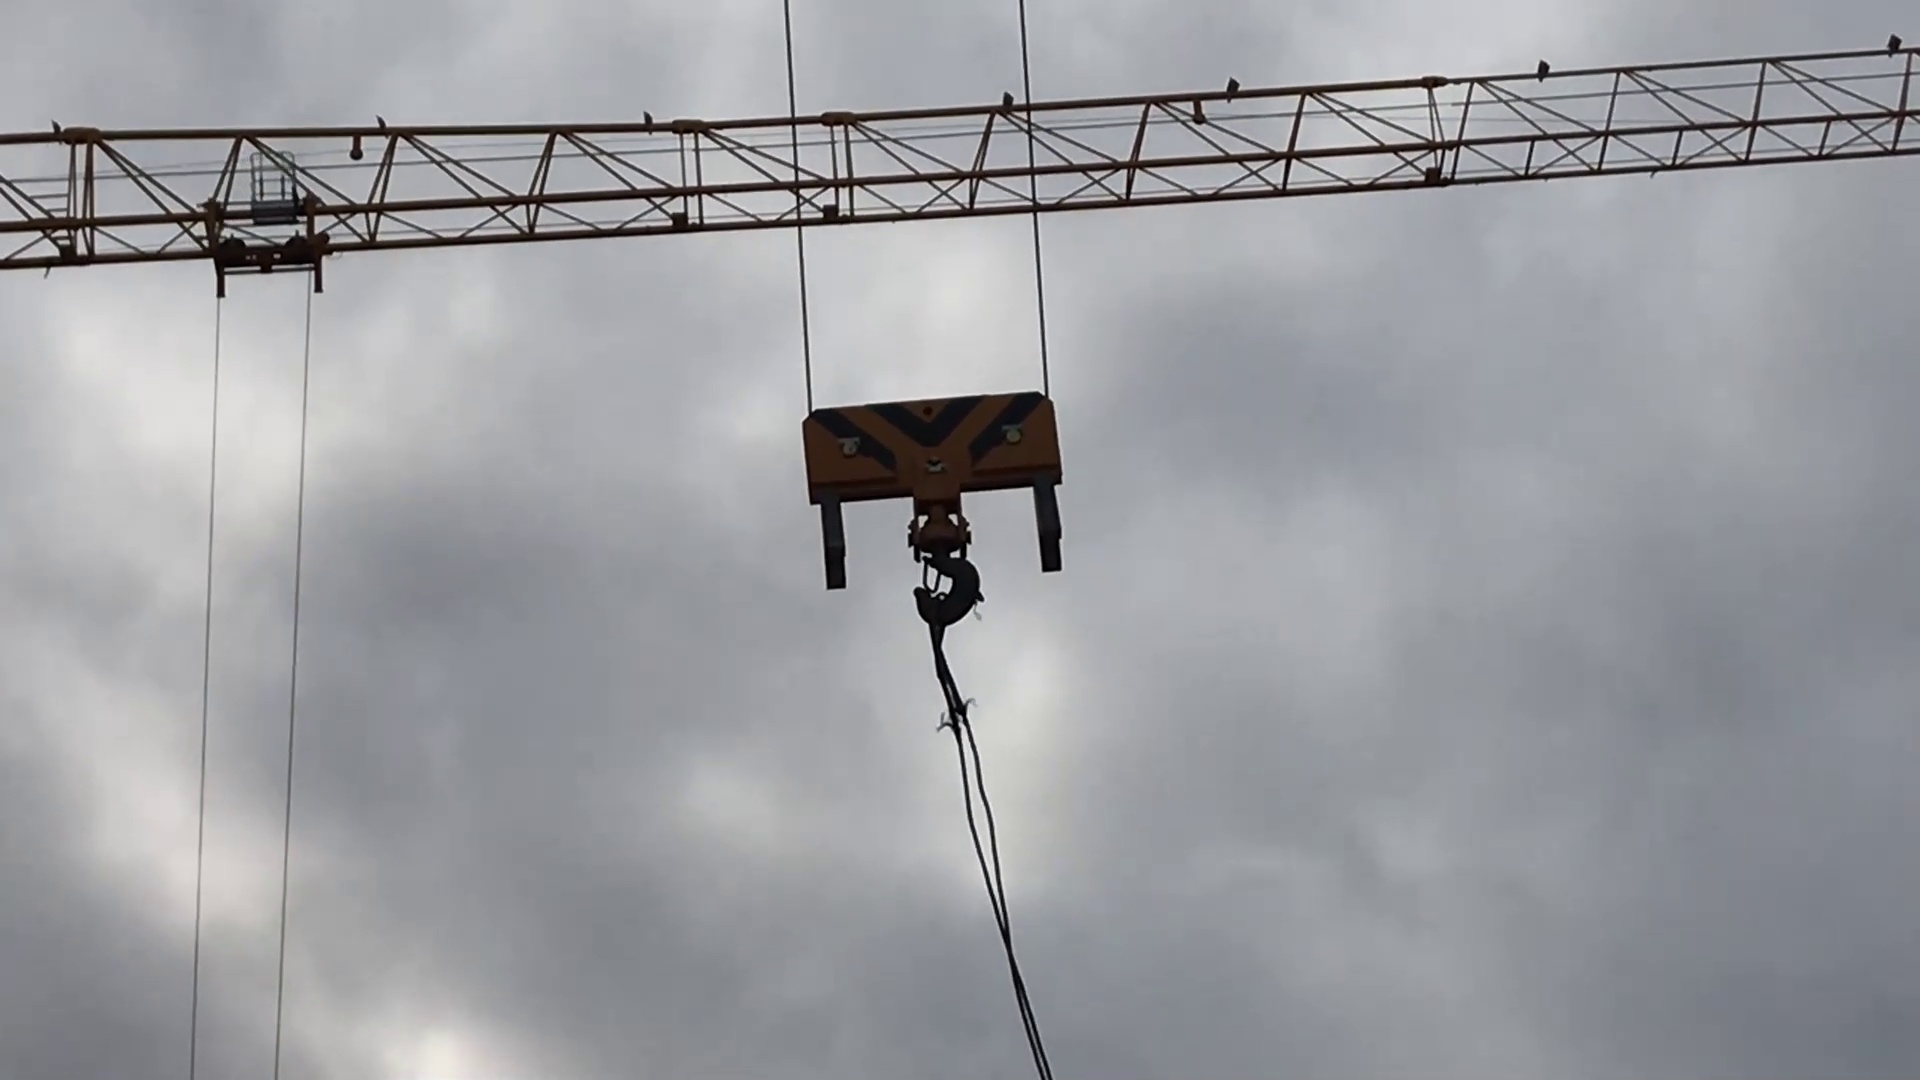hook: (789, 393, 1068, 629)
